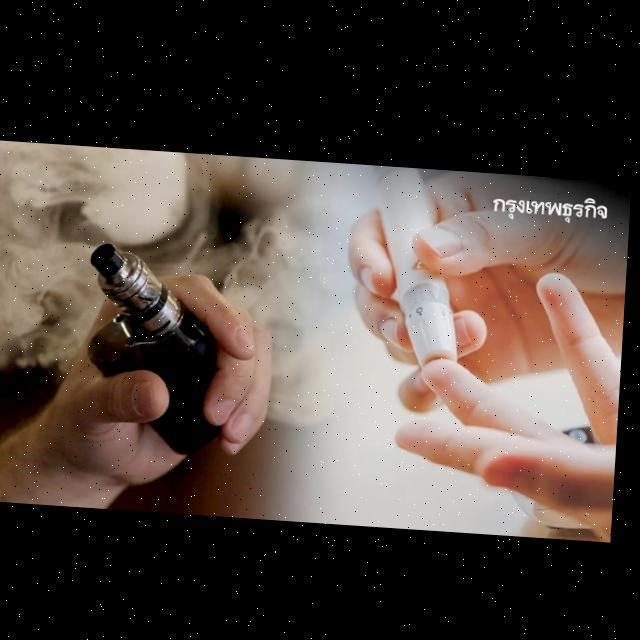vape: (83, 239, 237, 455)
